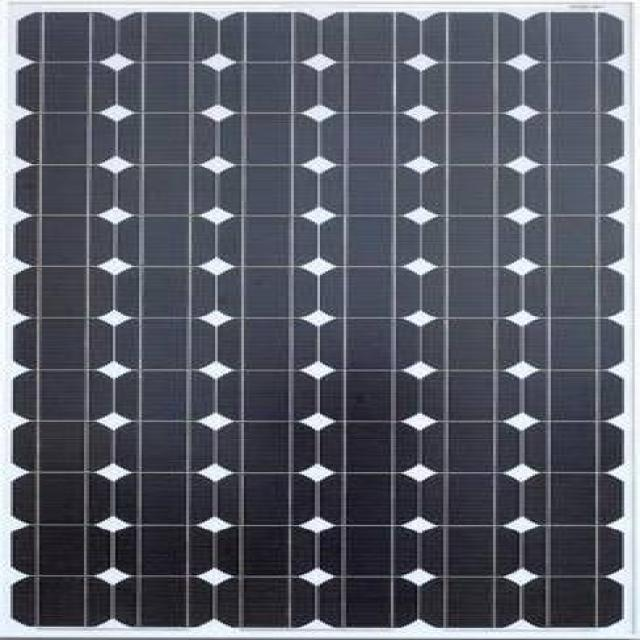clean-solar-panel: (15, 12, 622, 626)
